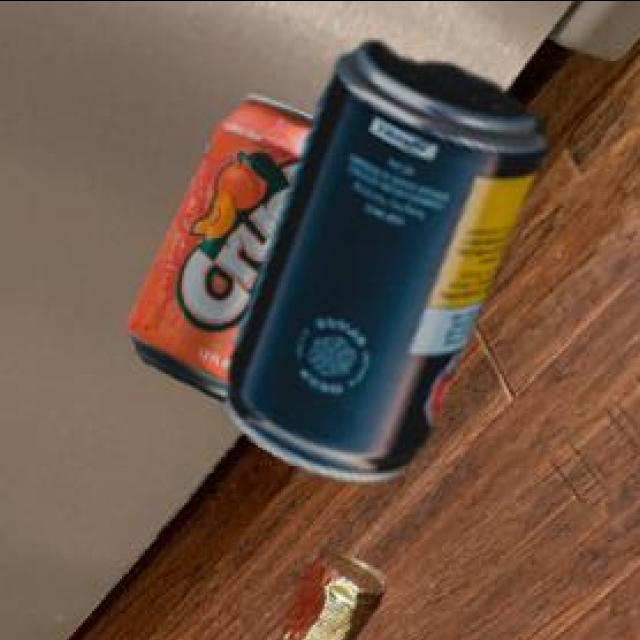logam: (224, 45, 542, 485), (123, 98, 310, 404), (280, 554, 381, 640)
